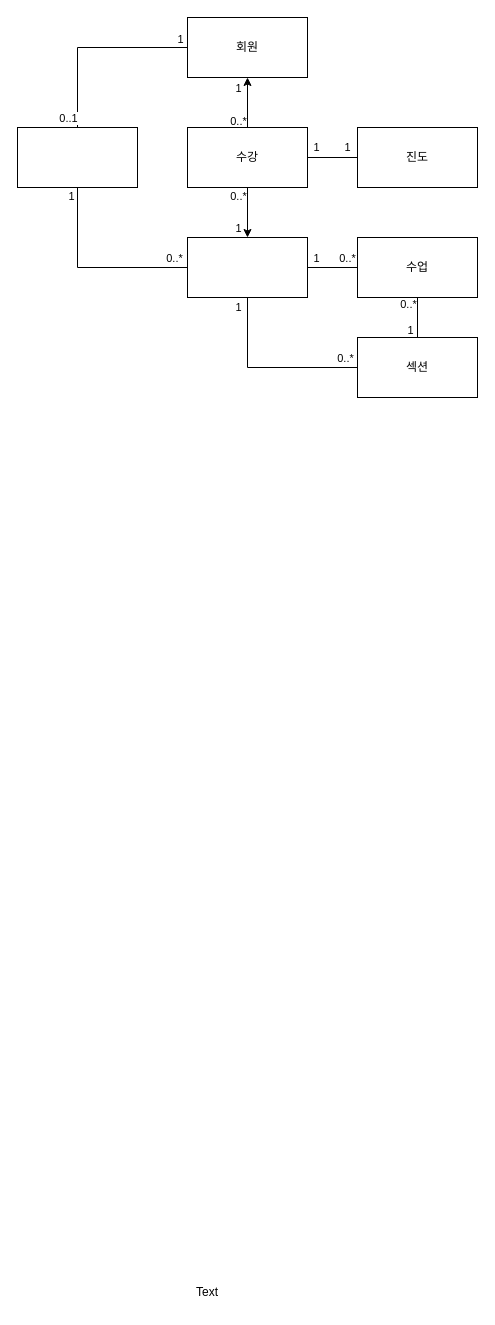
Image size: 495x1325. Some labels were removed from this diagram. The box of each missing label's shape, as (x1, y1, x2, y2) in pixels:
강사: (16, 126, 138, 188)
강의: (186, 236, 308, 298)
